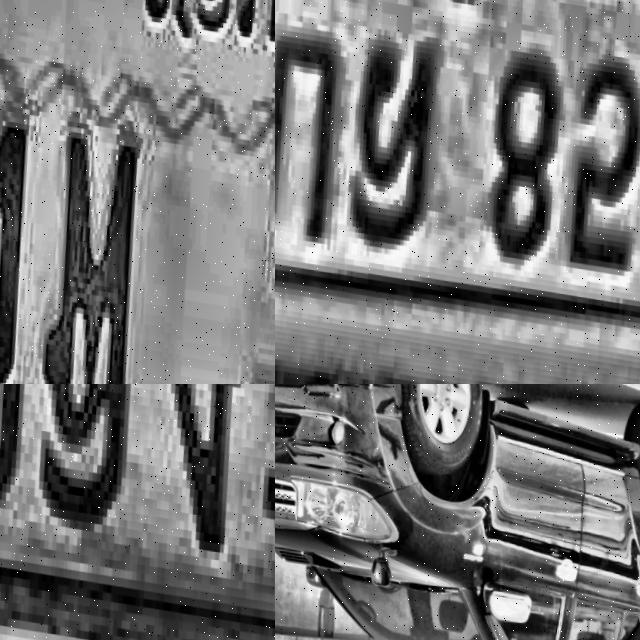license-plate: (275, 0, 640, 384), (0, 0, 275, 384), (0, 384, 275, 640)
